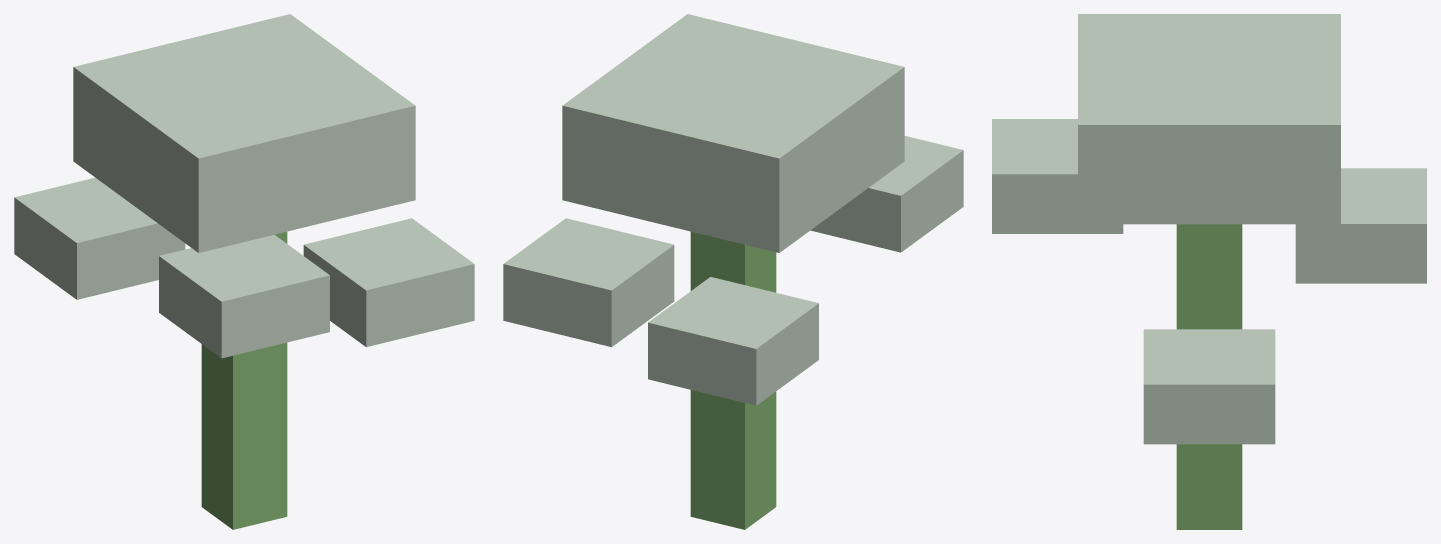
File: Prop_DS_Herb_ArchiveSage_S2.glb
The picture shows the model from 3 angles, left to right: view 1: azimuth 30°, elevation 25°; view 2: azimuth 150°, elevation 25°; view 3: azimuth 270°, elevation 25°; orthographic projection. The views are drawn at different scales.
Parts seen in each view (by area): view 1: Cube.004, Cube.003, Cube.001, Cube, Cube.002; view 2: Cube.004, Cube.001, Cube.002, Cube, Cube.003; view 3: Cube.004, Cube.001, Cube, Cube.002, Cube.003.
Part boxes in pixels (left/top/right/bottom): Cube.004: left=73, top=14, right=415, bottom=252; Cube.003: left=159, top=234, right=329, bottom=358; Cube.001: left=303, top=218, right=474, bottom=347; Cube: left=201, top=231, right=287, bottom=529; Cube.002: left=14, top=177, right=185, bottom=299; Cube.004: left=562, top=14, right=904, bottom=252; Cube.001: left=503, top=218, right=674, bottom=347; Cube.002: left=648, top=277, right=818, bottom=405; Cube: left=690, top=231, right=776, bottom=529; Cube.003: left=810, top=136, right=963, bottom=252; Cube.004: left=1078, top=14, right=1340, bottom=224; Cube.001: left=1143, top=329, right=1275, bottom=444; Cube: left=1176, top=224, right=1242, bottom=529; Cube.002: left=1295, top=168, right=1426, bottom=283; Cube.003: left=992, top=119, right=1123, bottom=233.
Bounding box in the file's own units: 0.36 × 0.45 × 0.3971.
